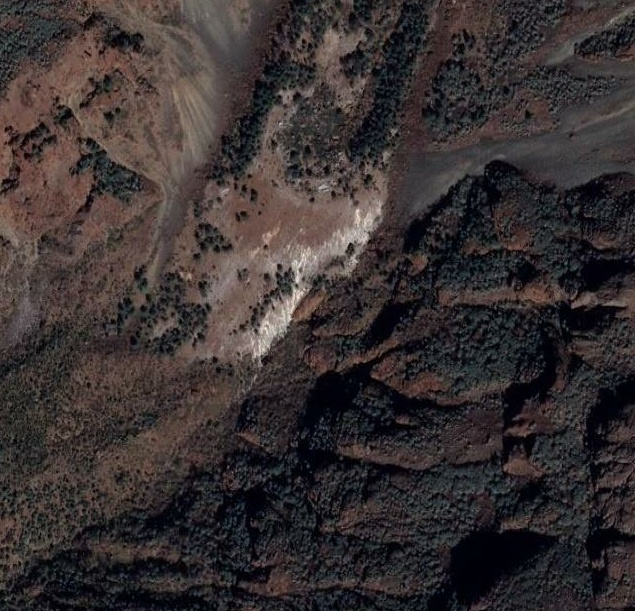slope: (248, 195, 384, 361), (160, 1, 261, 162)
